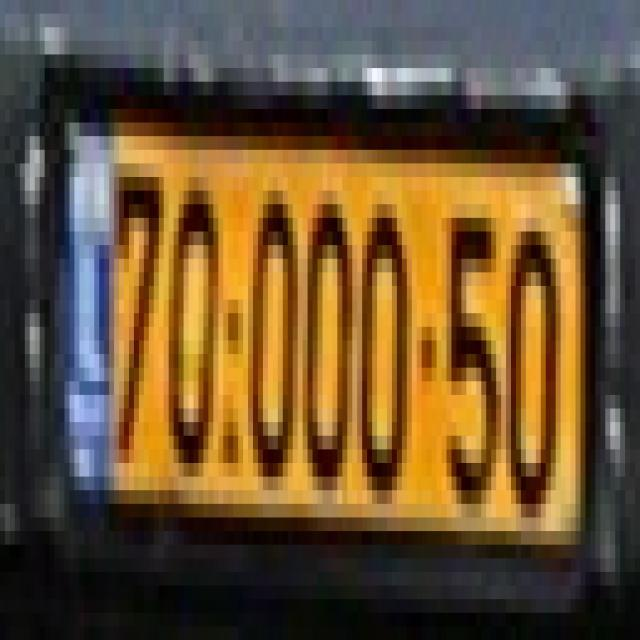licenseplate: (45, 76, 606, 576)
